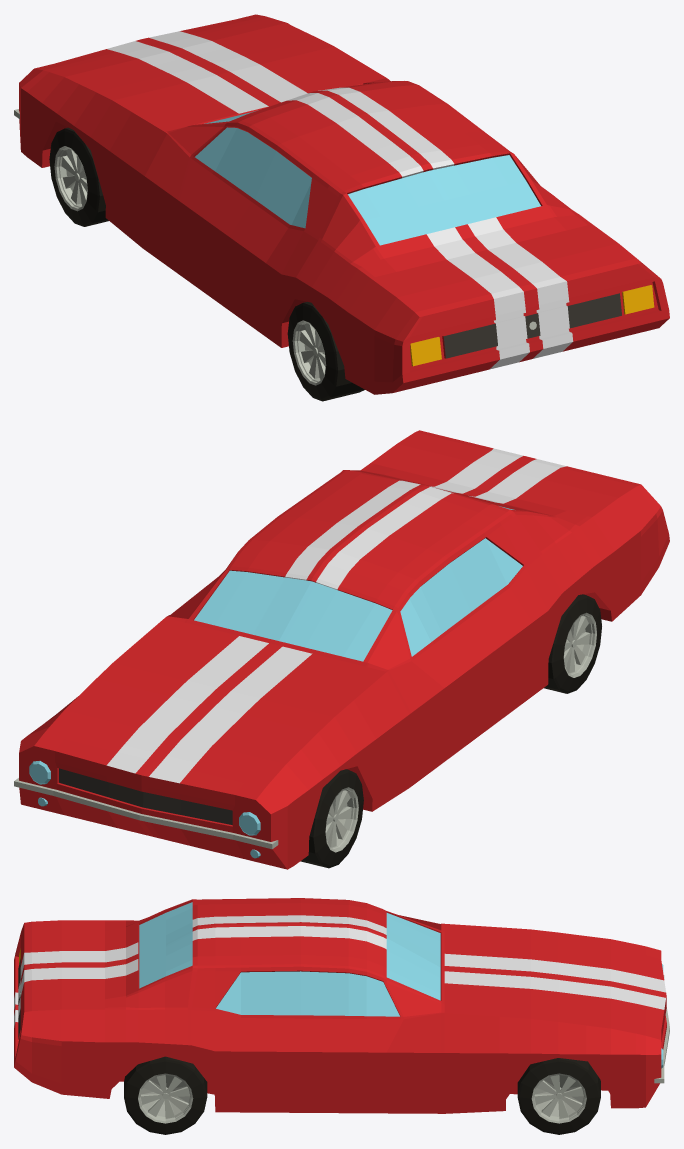
File: mustang-1965.fbx
3 renders of one model, top to bottom at view 1: azimuth 30°, elevation 25°; view 2: azimuth 150°, elevation 25°; view 3: azimuth 270°, elevation 25°, orthographic. The views are drawn at different scales.
Parts seen in each view (by area): view 1: FordMustang1965, RearLeft.001, FrontLeft.001, RearLeft, FrontLeft; view 2: FordMustang1965, FrontLeft.001, RearLeft.001; view 3: FordMustang1965, FrontRight.001, RearRight.001, RearRight.
Boxes of the visible parts, x1,y1,x2,y2 form: FordMustang1965: (14,14,669,394); RearLeft.001: (287,301,363,401); FrontLeft.001: (49,127,108,226); RearLeft: (288,303,364,398); FrontLeft: (49,131,108,226); FordMustang1965: (14,430,669,869); FrontLeft.001: (300,769,363,868); RearLeft.001: (544,594,601,693); FordMustang1965: (14,898,669,1113); FrontRight.001: (517,1058,600,1134); RearRight.001: (124,1056,207,1134); RearRight: (124,1056,190,1134).
Bounding box in the file's own units: 142 × 96.11 × 361.
